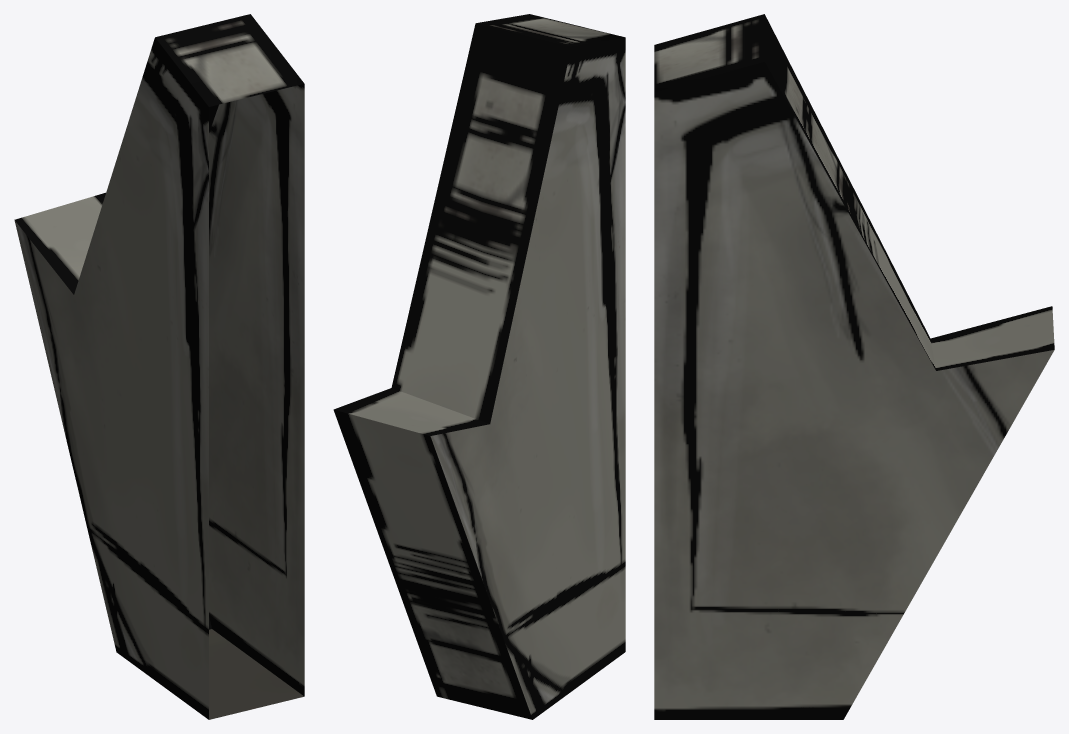
File: tombstone_06_gib1.fbx
3 renders of one model, left to right at view 1: azimuth 30°, elevation 25°; view 2: azimuth 150°, elevation 25°; view 3: azimuth 270°, elevation 25°, orthographic. The views are drawn at different scales.
Visible parts, largest first — view 1: tombstone_06_gib1; view 2: tombstone_06_gib1; view 3: tombstone_06_gib1.
Part boxes in pixels (box(x1,y1,x2,y2)): tombstone_06_gib1: box(14, 14, 304, 719); tombstone_06_gib1: box(333, 14, 625, 719); tombstone_06_gib1: box(654, 14, 1054, 719).
Bounding box in the file's own units: 1 × 6.43 × 3.55.
